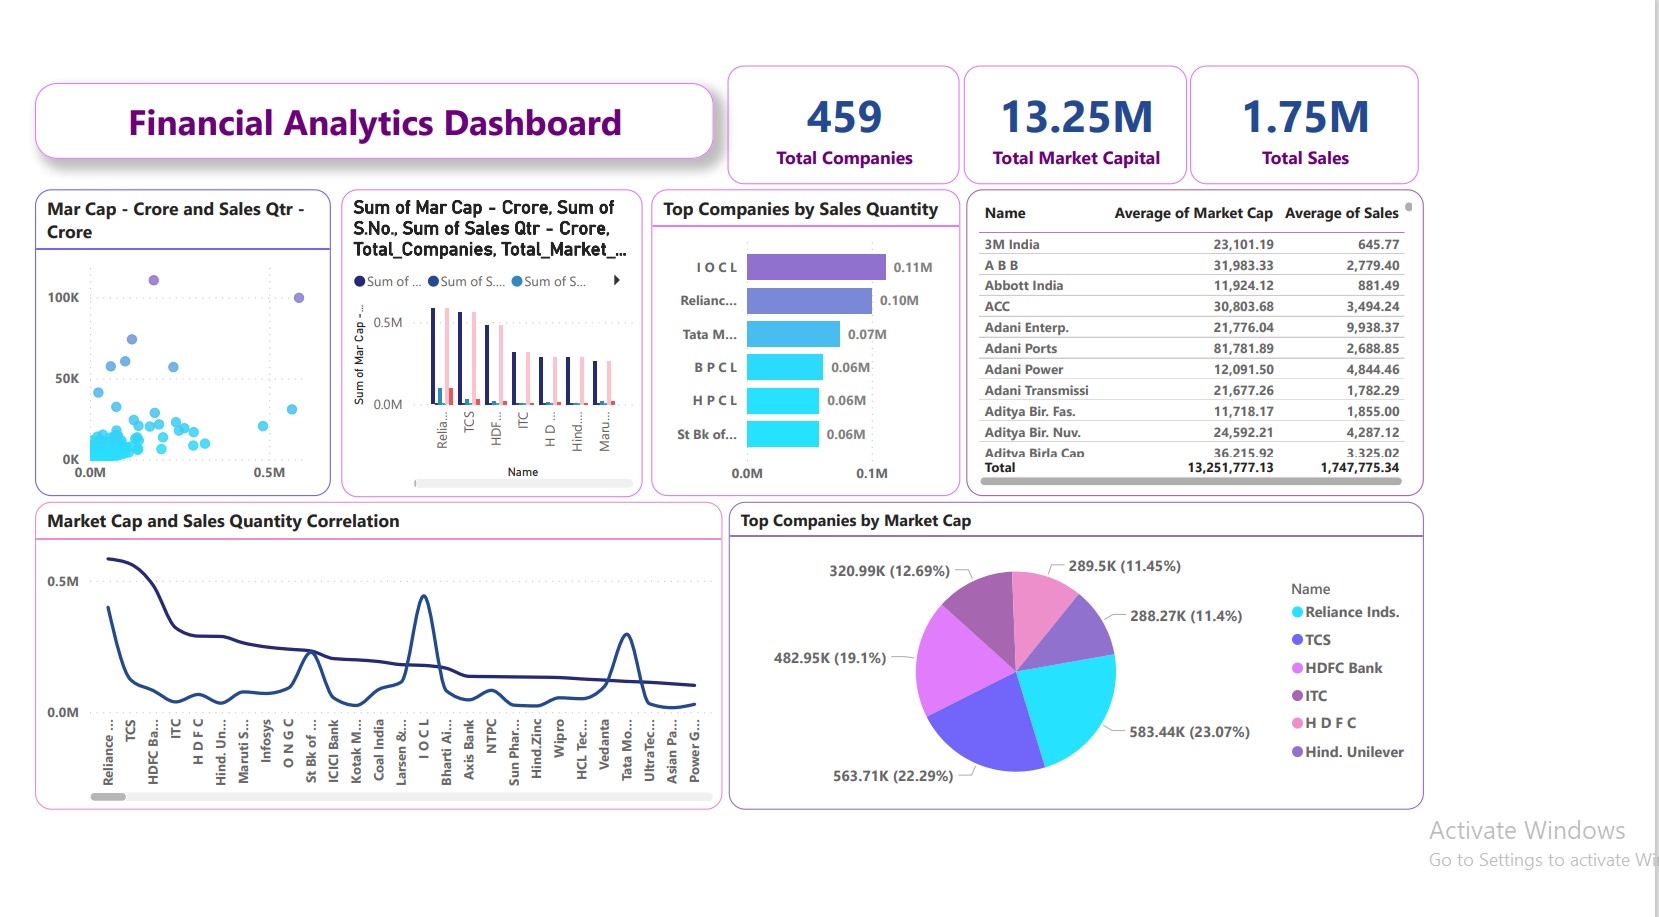

The dashboard page shown, as its layout file describes it:
{"tool":"powerbi","page":{"name":"Dashboards ","canvas":[1280,720],"ordinal":0},"visuals":[{"type":"lineChart","title":"Market Cap and Sales Quantity Correlation","fields":{"Category":["Financial Analytics data.Name"],"Y":["Sum(Financial Analytics data.Mar Cap - Crore)"],"Y2":["Sum(Financial Analytics data.Sales Qtr - Crore)"]},"box":[9.7,430.7,625,279.9],"z":0},{"type":"pieChart","title":"Top Companies by Market Cap","fields":{"Category":["Financial Analytics data.Name"],"Y":["Sum(Financial Analytics data.Mar Cap - Crore)"]},"box":[639.4,430.7,632.2,279.9],"z":1000},{"type":"scatterChart","title":"Mar Cap - Crore and Sales Qtr - Crore","fields":{"Category":["Financial Analytics data.Name"],"X":["Sum(Financial Analytics data.Mar Cap - Crore)"],"Y":["Sum(Financial Analytics data.Sales Qtr - Crore)"]},"box":[9.4,147.1,269.4,278.8],"z":2000},{"type":"barChart","title":"Top Companies by Sales Quantity","fields":{"Category":["Financial Analytics data.Name"],"Y":["Sum(Financial Analytics data.Sales Qtr - Crore)"]},"box":[569.4,147.1,281.2,278.8],"z":3000},{"type":"tableEx","fields":{"Values":["Financial Analytics data.Name","Sum(Financial Analytics data.Mar Cap - Crore)","Sum(Financial Analytics data.Sales Qtr - Crore)"]},"box":[855.3,147.1,416.5,278.8],"z":4000},{"type":"card","fields":{"Values":["Financial Analytics data.Total_Sales"]},"box":[1058.8,34,208.2,108.2],"z":5000},{"type":"card","fields":{"Values":["Financial Analytics data.Total_Market_Capital"]},"box":[853.3,34.4,203.3,107.8],"z":6000},{"type":"card","fields":{"Values":["Financial Analytics data.Total_Companies"]},"box":[638.9,34.4,211.1,107.8],"z":7000},{"type":"textbox","box":[9.1,50,617,69.3],"z":8000},{"type":"clusteredColumnChart","fields":{"Y":["Sum(Financial Analytics data.Mar Cap - Crore)","Sum(Financial Analytics data.S.No.)","Sum(Financial Analytics data.Sales Qtr - Crore)","Financial Analytics data.Total_Companies","Financial Analytics data.Total_Market_Capital","Financial Analytics data.Total_Sales"],"Category":["Financial Analytics data.Name"]},"box":[287.1,147.1,274.1,280],"z":9000}]}

Visuals, with their boxes on the page's 1280x720 design canvas (x1, y1, x2, y2). These are canvas units, not pixel positions in the 1659x917 screenshot, which may show the page scaled, cropped or inside an application window:
"Market Cap and Sales Quantity Correlation" lineChart: (x1=10, y1=431, x2=635, y2=711)
"Top Companies by Market Cap" pieChart: (x1=639, y1=431, x2=1272, y2=711)
"Mar Cap - Crore and Sales Qtr - Crore" scatterChart: (x1=9, y1=147, x2=279, y2=426)
"Top Companies by Sales Quantity" barChart: (x1=569, y1=147, x2=851, y2=426)
tableEx - Financial Analytics data.Name x Sum(Financial Analytics data.Mar Cap - Crore): (x1=855, y1=147, x2=1272, y2=426)
card - Financial Analytics data.Total_Sales: (x1=1059, y1=34, x2=1267, y2=142)
card - Financial Analytics data.Total_Market_Capital: (x1=853, y1=34, x2=1057, y2=142)
card - Financial Analytics data.Total_Companies: (x1=639, y1=34, x2=850, y2=142)
textbox: (x1=9, y1=50, x2=626, y2=119)
clusteredColumnChart - Sum(Financial Analytics data.Mar Cap - Crore) x Sum(Financial Analytics data.S.No.): (x1=287, y1=147, x2=561, y2=427)
